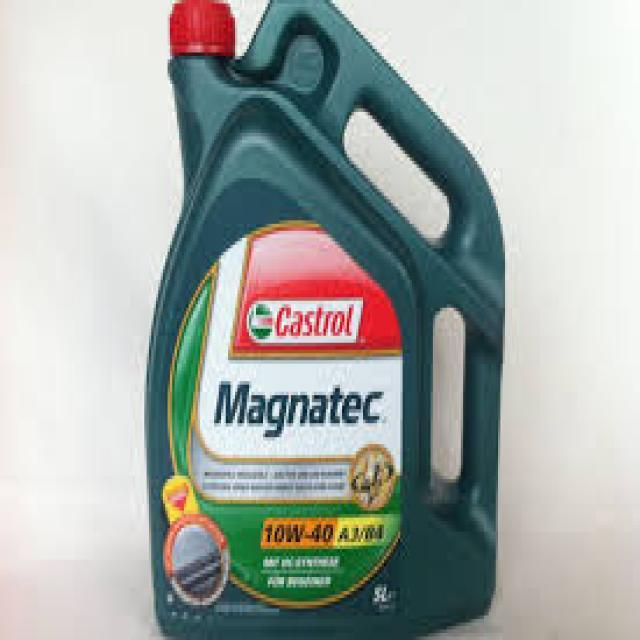motor_oil: (135, 0, 509, 640)
